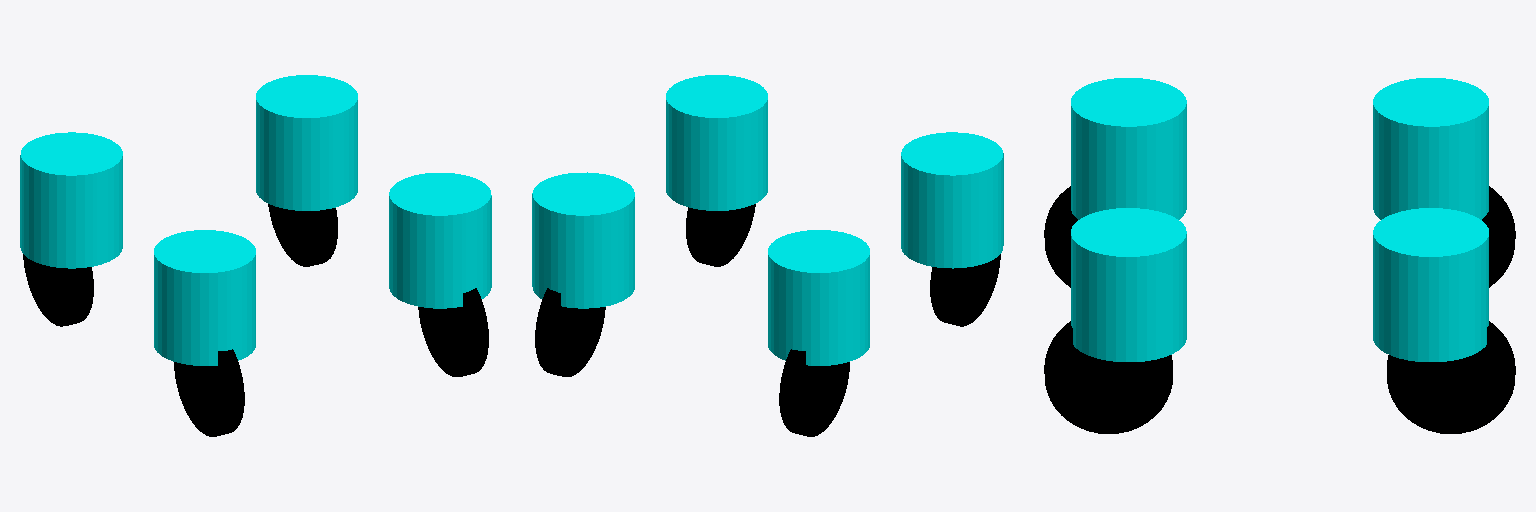
robot.urdf — holonomic_platform:
<?xml version="1.0" ?>
<robot
  name="holonomic_platform">
  <link
    name="mobile_base_link">
    <inertial>
      <origin
        xyz="-5.19284873262009E-17 3.21989943496111E-17 0.0576517097206085"
        rpy="0 0 0" />
      <mass
        value="11.2240470760814" />
      <inertia
        ixx="0"
        ixy="0"
        ixz="0"
        iyy="0"
        iyz="0"
        izz="0" />
    </inertial>
    <visual>
      <origin
        xyz="0 0 0"
        rpy="0 0 0" />
      <geometry>
        <mesh
          filename="package://ocs2_robotic_assets/resources/mobile_manipulator/kortex/meshes/mobile_base_link.dae" />
      </geometry>
      <material
        name="">
        <color
          rgba="0.250980392156863 0.250980392156863 0.250980392156863 1" />
      </material>
    </visual>
    <collision>
      <origin
        xyz="0 0 0"
        rpy="0 0 0" />
      <geometry>
        <mesh
          filename="package://ocs2_robotic_assets/resources/mobile_manipulator/kortex/meshes/mobile_base_link.STL" />
      </geometry>
    </collision>
  </link>
  <link
    name="front_left_turning_link">
    <inertial>
      <origin
        xyz="0 0 2.77555756156289E-17"
        rpy="0 0 0" />
      <mass
        value="0.785398163397449" />
      <inertia
        ixx="0"
        ixy="0"
        ixz="0"
        iyy="0"
        iyz="0"
        izz="0" />
    </inertial>
    <visual>
      <origin
        xyz="0 0 0"
        rpy="0 0 0" />
      <geometry>
        <mesh
          filename="package://ocs2_robotic_assets/resources/mobile_manipulator/kortex/meshes/turning_joint_visual.STL" />
      </geometry>
      <material
        name="">
        <color
          rgba="0 1 1 1" />
      </material>
    </visual>
    <collision>
      <origin
        xyz="0 0 0"
        rpy="0 0 0" />
      <geometry>
        <mesh
          filename="package://ocs2_robotic_assets/resources/mobile_manipulator/kortex/meshes/turning_joint_visual.STL" />
      </geometry>
    </collision>
  </link>
  <joint
    name="front_left_turning_joint"
    type="continuous">
    <origin
      xyz="0.1325 -0.13 0.13539"
      rpy="1.5707963267949 0 0" />
    <parent
      link="mobile_base_link" />
    <child
      link="front_left_turning_link" />
    <axis
      xyz="0 1 0" />
  </joint>
  <link
    name="front_left_caster_link">
    <inertial>
      <origin
        xyz="0 0 -2.77555756156289E-17"
        rpy="0 0 0" />
      <mass
        value="0.154217119011052" />
      <inertia
        ixx="0"
        ixy="0"
        ixz="0"
        iyy="0"
        iyz="0"
        izz="0" />
    </inertial>
    <visual>
      <origin
        xyz="0 0 0"
        rpy="0 0 0" />
      <geometry>
        <mesh
          filename="package://ocs2_robotic_assets/resources/mobile_manipulator/kortex/meshes/caster_link.STL" />
      </geometry>
      <material
        name="">
        <color
          rgba="0 0 0  1" />
      </material>
    </visual>
    <collision>
      <origin
        xyz="0 0 0"
        rpy="0 0 0" />
      <geometry>
        <mesh
          filename="package://ocs2_robotic_assets/resources/mobile_manipulator/kortex/meshes/caster_link.STL" />
      </geometry>
    </collision>
  </link>
  <joint
    name="front_left_caster_joint"
    type="continuous">
    <origin
      xyz="0.005 -0.08 0.0171140798040203"
      rpy="0 0 0" />
    <parent
      link="front_left_turning_link" />
    <child
      link="front_left_caster_link" />
    <axis
      xyz="-1 0 0" />
  </joint>
  <link
    name="front_right_turning_link">
    <inertial>
      <origin
        xyz="0 0 2.77555756156289E-17"
        rpy="0 0 0" />
      <mass
        value="0.785398163397449" />
      <inertia
        ixx="0"
        ixy="0"
        ixz="0"
        iyy="0"
        iyz="0"
        izz="0" />
    </inertial>
    <visual>
      <origin
        xyz="0 0 0"
        rpy="0 0 0" />
      <geometry>
        <mesh
          filename="package://ocs2_robotic_assets/resources/mobile_manipulator/kortex/meshes/turning_joint_visual.STL" />
      </geometry>
      <material
        name="">
        <color
          rgba="0 1 1 1" />
      </material>
    </visual>
    <collision>
      <origin
        xyz="0 0 0"
        rpy="0 0 0" />
      <geometry>
        <mesh
          filename="package://ocs2_robotic_assets/resources/mobile_manipulator/kortex/meshes/turning_joint_visual.STL" />
      </geometry>
    </collision>
  </link>
  <joint
    name="front_right_turning_link"
    type="continuous">
    <origin
      xyz="-0.1325 -0.13 0.13539"
      rpy="1.5707963267949 0 0" />
    <parent
      link="mobile_base_link" />
    <child
      link="front_right_turning_link" />
    <axis
      xyz="0 1 0" />
  </joint>
  <link
    name="front_right_caster_link">
    <inertial>
      <origin
        xyz="2.77555756156289E-17 0 -2.77555756156289E-17"
        rpy="0 0 0" />
      <mass
        value="0.154217119011052" />
      <inertia
        ixx="0"
        ixy="0"
        ixz="0"
        iyy="0"
        iyz="0"
        izz="0" />
    </inertial>
    <visual>
      <origin
        xyz="0 0 0"
        rpy="0 0 0" />
      <geometry>
        <mesh
          filename="package://ocs2_robotic_assets/resources/mobile_manipulator/kortex/meshes/caster_link.STL" />
      </geometry>
      <material
        name="">
        <color
          rgba="0 0 0  1" />
      </material>
    </visual>
    <collision>
      <origin
        xyz="0 0 0"
        rpy="0 0 0" />
      <geometry>
        <mesh
          filename="package://ocs2_robotic_assets/resources/mobile_manipulator/kortex/meshes/caster_link.STL" />
      </geometry>
    </collision>
  </link>
  <joint
    name="front_right_caster_joint"
    type="continuous">
    <origin
      xyz="-0.00500000000000003 -0.08 0.0171140798040204"
      rpy="0 0 0" />
    <parent
      link="front_right_turning_link" />
    <child
      link="front_right_caster_link" />
    <axis
      xyz="1 0 0" />
  </joint>
  <link
    name="back_left_turning_link">
    <inertial>
      <origin
        xyz="0 0 -2.77555756156289E-17"
        rpy="0 0 0" />
      <mass
        value="0.785398163397449" />
      <inertia
        ixx="0"
        ixy="0"
        ixz="0"
        iyy="0"
        iyz="0"
        izz="0" />
    </inertial>
    <visual>
      <origin
        xyz="0 0 0"
        rpy="0 0 0" />
      <geometry>
        <mesh
          filename="package://ocs2_robotic_assets/resources/mobile_manipulator/kortex/meshes/turning_joint_visual.STL" />
      </geometry>
      <material
        name="">
        <color
          rgba="0 1 1 1" />
      </material>
    </visual>
    <collision>
      <origin
        xyz="0 0 0"
        rpy="0 0 0" />
      <geometry>
        <mesh
          filename="package://ocs2_robotic_assets/resources/mobile_manipulator/kortex/meshes/turning_joint_visual.STL" />
      </geometry>
    </collision>
  </link>
  <joint
    name="back_left_turning_joint"
    type="continuous">
    <origin
      xyz="0.1325 0.13 0.13539"
      rpy="1.5707963267949 0 0" />
    <parent
      link="mobile_base_link" />
    <child
      link="back_left_turning_link" />
    <axis
      xyz="0 1 0" />
  </joint>
  <link
    name="back_left_caster_link">
    <inertial>
      <origin
        xyz="0 -6.93889390390723E-18 2.77555756156289E-17"
        rpy="0 0 0" />
      <mass
        value="0.154217119011052" />
      <inertia
        ixx="0"
        ixy="0"
        ixz="0"
        iyy="0"
        iyz="0"
        izz="0" />
    </inertial>
    <visual>
      <origin
        xyz="0 0 0"
        rpy="0 0 0" />
      <geometry>
        <mesh
          filename="package://ocs2_robotic_assets/resources/mobile_manipulator/kortex/meshes/caster_link.STL" />
      </geometry>
      <material
        name="">
        <color
          rgba="0 0 0  1" />
      </material>
    </visual>
    <collision>
      <origin
        xyz="0 0 0"
        rpy="0 0 0" />
      <geometry>
        <mesh
          filename="package://ocs2_robotic_assets/resources/mobile_manipulator/kortex/meshes/caster_link.STL" />
      </geometry>
    </collision>
  </link>
  <joint
    name="back_left_caster_joint"
    type="continuous">
    <origin
      xyz="0.005 -0.08 -0.0171140798040203"
      rpy="0 0 0" />
    <parent
      link="back_left_turning_link" />
    <child
      link="back_left_caster_link" />
    <axis
      xyz="1 0 0" />
  </joint>
  <link
    name="back_right_turning_link">
    <inertial>
      <origin
        xyz="0 0 -2.77555756156289E-17"
        rpy="0 0 0" />
      <mass
        value="0.785398163397449" />
      <inertia
        ixx="0"
        ixy="0"
        ixz="0"
        iyy="0"
        iyz="0"
        izz="0" />
    </inertial>
    <visual>
      <origin
        xyz="0 0 0"
        rpy="0 0 0" />
      <geometry>
        <mesh
          filename="package://ocs2_robotic_assets/resources/mobile_manipulator/kortex/meshes/turning_joint_visual.STL" />
      </geometry>
      <material
        name="">
        <color
          rgba="0 1 1 1" />
      </material>
    </visual>
    <collision>
      <origin
        xyz="0 0 0"
        rpy="0 0 0" />
      <geometry>
        <mesh
          filename="package://ocs2_robotic_assets/resources/mobile_manipulator/kortex/meshes/turning_joint_visual.STL" />
      </geometry>
    </collision>
  </link>
  <joint
    name="back_right_turning_joint"
    type="continuous">
    <origin
      xyz="-0.1325 0.13 0.13539"
      rpy="1.5707963267949 0 0" />
    <parent
      link="mobile_base_link" />
    <child
      link="back_right_turning_link" />
    <axis
      xyz="0 1 0" />
  </joint>
  <link
    name="back_right_caster_link">
    <inertial>
      <origin
        xyz="0 -6.93889390390723E-18 2.77555756156289E-17"
        rpy="0 0 0" />
      <mass
        value="0.154217119011052" />
      <inertia
        ixx="0"
        ixy="0"
        ixz="0"
        iyy="0"
        iyz="0"
        izz="0" />
    </inertial>
    <visual>
      <origin
        xyz="0 0 0"
        rpy="0 0 0" />
      <geometry>
        <mesh
          filename="package://ocs2_robotic_assets/resources/mobile_manipulator/kortex/meshes/caster_link.STL" />
      </geometry>
      <material
        name="">
        <color
          rgba="0 0 0  1" />
      </material>
    </visual>
    <collision>
      <origin
        xyz="0 0 0"
        rpy="0 0 0" />
      <geometry>
        <mesh
          filename="package://ocs2_robotic_assets/resources/mobile_manipulator/kortex/meshes/caster_link.STL" />
      </geometry>
    </collision>
  </link>
  <joint
    name="back_right_caster_joint"
    type="continuous">
    <origin
      xyz="-0.005 -0.08 -0.0171140798040203"
      rpy="0 0 0" />
    <parent
      link="back_right_turning_link" />
    <child
      link="back_right_caster_link" />
    <axis
      xyz="1 0 0" />
  </joint>
</robot>

--- Facts derived from the render (not from the file) ---
The picture shows the robot from 3 angles, left to right: view 1: azimuth 30°, elevation 25°; view 2: azimuth 150°, elevation 25°; view 3: azimuth 270°, elevation 25°; orthographic projection.
Robot: holonomic_platform — 9 links, 8 joints (8 continuous); root link mobile_base_link; default pose: every joint at zero.
Links seen in each view (by area): view 1: back_right_turning_link, back_left_turning_link, front_left_turning_link, front_right_turning_link, front_right_caster_link, front_left_caster_link, back_right_caster_link, back_left_caster_link; view 2: front_right_turning_link, front_left_turning_link, back_left_turning_link, back_right_turning_link, back_right_caster_link, back_left_caster_link, front_right_caster_link, front_left_caster_link; view 3: front_left_turning_link, back_left_turning_link, back_right_turning_link, front_right_turning_link, front_left_caster_link, back_left_caster_link, front_right_caster_link, back_right_caster_link.
Link boxes in pixels (<box>): back_right_turning_link: <box>20,132,122,268</box>; back_left_turning_link: <box>256,75,357,210</box>; front_left_turning_link: <box>389,173,491,308</box>; front_right_turning_link: <box>154,230,255,365</box>; front_right_caster_link: <box>174,349,244,436</box>; front_left_caster_link: <box>418,288,488,376</box>; back_right_caster_link: <box>23,254,93,326</box>; back_left_caster_link: <box>268,204,337,266</box>; front_right_turning_link: <box>901,132,1003,268</box>; front_left_turning_link: <box>666,75,767,210</box>; back_left_turning_link: <box>532,172,634,308</box>; back_right_turning_link: <box>768,230,869,365</box>; back_right_caster_link: <box>779,349,849,436</box>; back_left_caster_link: <box>535,288,605,376</box>; front_right_caster_link: <box>930,254,1000,326</box>; front_left_caster_link: <box>686,204,755,266</box>; front_left_turning_link: <box>1071,208,1186,361</box>; back_left_turning_link: <box>1373,208,1488,361</box>; back_right_turning_link: <box>1373,78,1488,219</box>; front_right_turning_link: <box>1071,78,1186,219</box>; front_left_caster_link: <box>1044,321,1172,433</box>; back_left_caster_link: <box>1387,321,1515,433</box>; front_right_caster_link: <box>1044,186,1077,287</box>; back_right_caster_link: <box>1482,186,1515,287</box>.
Bounding box of the posed robot: 0.3649 × 0.4049 × 0.1854 m (x, y, z).
8 mesh visuals loaded from 3 distinct referenced files (2 binary STL); not drawn: 1 (file found but could not be loaded).